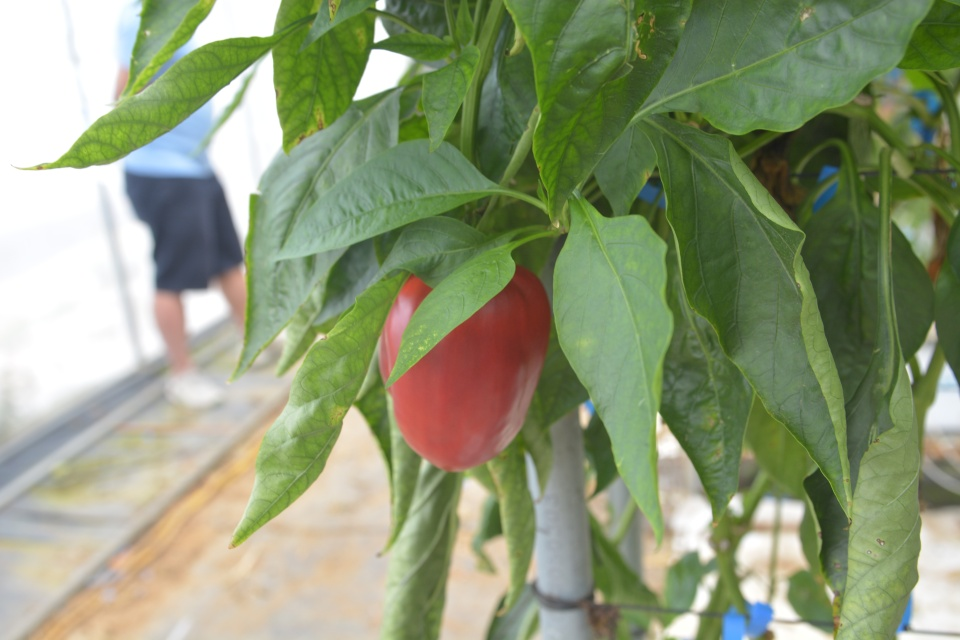fruit: (376, 261, 552, 474)
